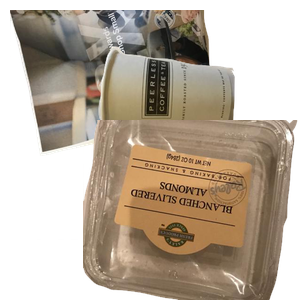glass: (37, 120, 231, 300)
paper: (10, 10, 233, 158)
plastic: (83, 120, 300, 300)
trash: (95, 44, 300, 180)
